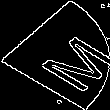M_NW: (8, 21, 102, 89)
